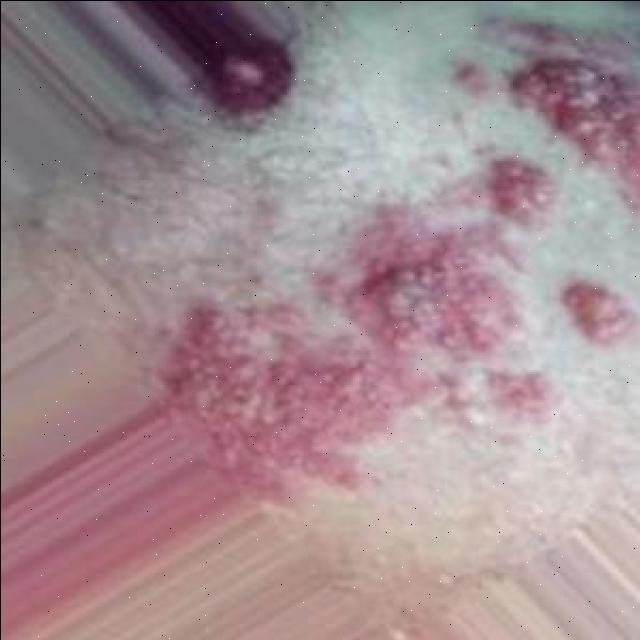Shingles: (173, 161, 556, 490), (454, 12, 640, 210), (563, 277, 635, 348)
